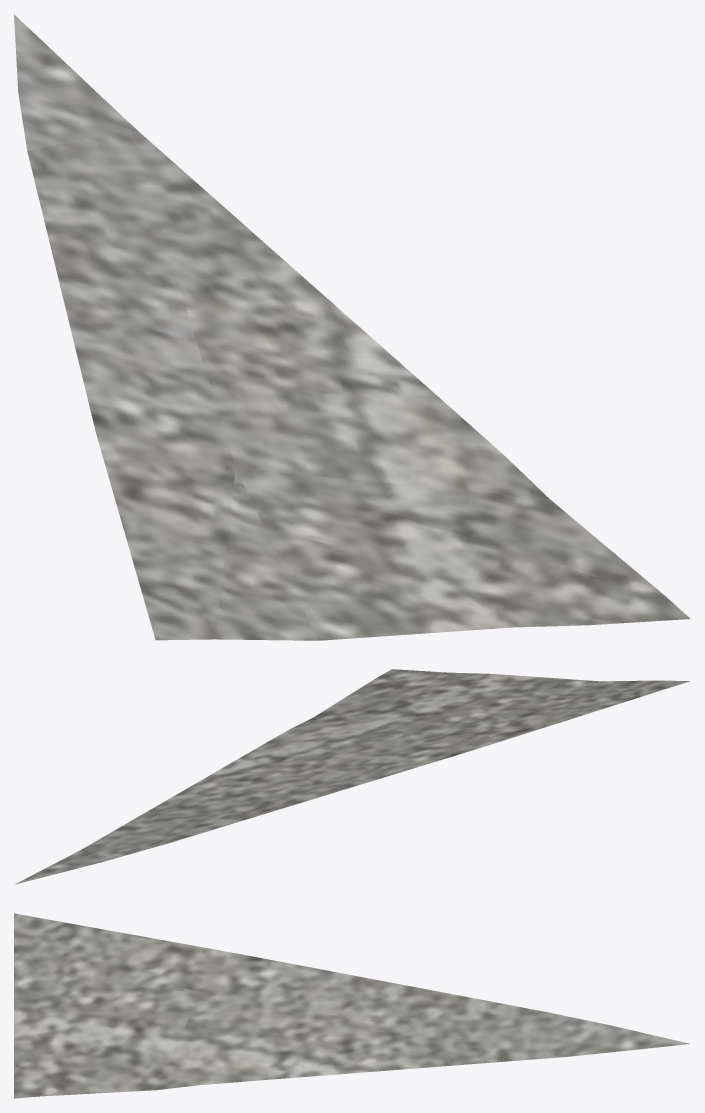
3 views of the same model, one above another, from view 1: azimuth 30°, elevation 25°; view 2: azimuth 150°, elevation 25°; view 3: azimuth 270°, elevation 25° (orthographic). The views are drawn at different scales.
Size of the model in its own units: 0.3168 by 0.0618 by 0.6939.
Materials: 1 (1 with a texture image).
